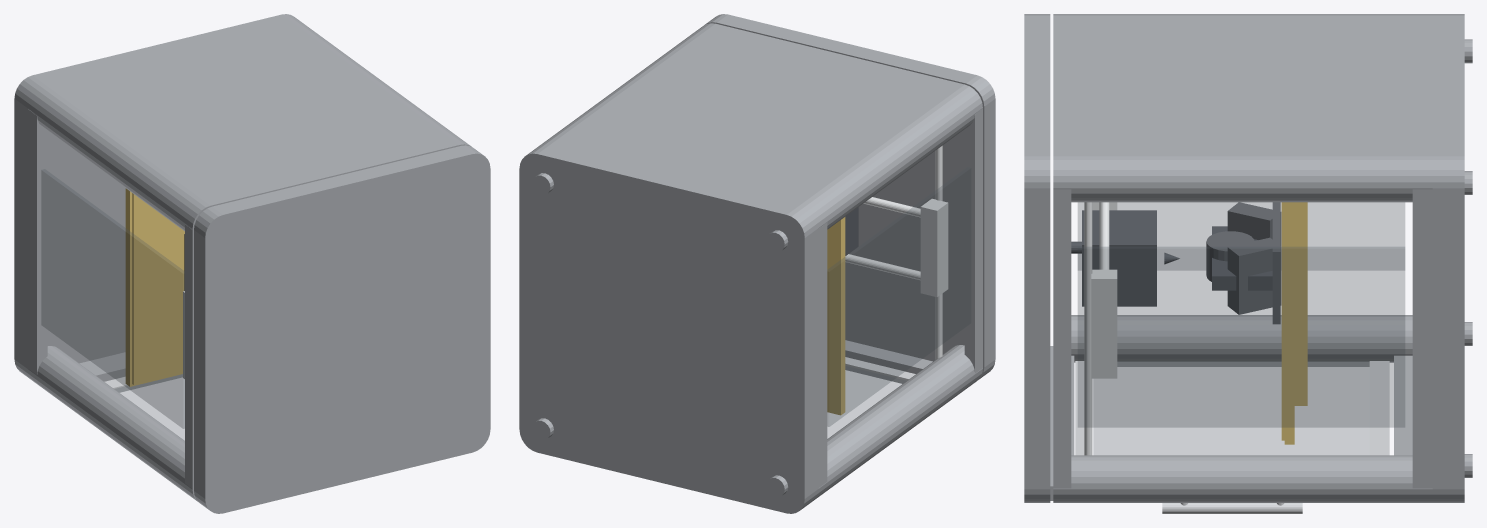
Rendered from deltrol_p2s_optimized.glb.
3 views of the same model, side by side, from view 1: azimuth 30°, elevation 25°; view 2: azimuth 150°, elevation 25°; view 3: azimuth 270°, elevation 25° (orthographic). The views are drawn at different scales.
Parts seen in each view (by area): view 1: enclosure, left_glass_window, printBed, front_glass_door; view 2: enclosure, left_glass_window, gantryX, printBed, front_glass_door, door, printHead; view 3: enclosure, right_glass_window, front_glass_door, left_glass_window, printedObject, printBed, gantryX, door, printHead, screen_bezel.
Boxes of the visible parts, box(x1,y1,x2,y2) form: enclosure: box(14, 14, 490, 513); left_glass_window: box(41, 169, 184, 428); printBed: box(125, 188, 184, 386); front_glass_door: box(115, 374, 184, 440); enclosure: box(519, 14, 995, 513); left_glass_window: box(827, 167, 970, 426); gantryX: box(845, 145, 948, 359); printBed: box(827, 217, 845, 415); front_glass_door: box(827, 366, 905, 438); door: box(845, 357, 915, 383); printHead: box(845, 207, 858, 255); enclosure: box(1024, 14, 1472, 502); right_glass_window: box(1078, 247, 1404, 427); front_glass_door: box(1093, 362, 1369, 454); left_glass_window: box(1078, 202, 1404, 269); printedObject: box(1206, 202, 1281, 324); printBed: box(1281, 202, 1307, 444); gantryX: box(1084, 202, 1117, 455); door: box(1075, 361, 1389, 513); printHead: box(1071, 210, 1179, 306); screen_bezel: box(1212, 226, 1272, 290).
Bounding box in the file's own units: 0.38 × 0.398 × 0.448.
